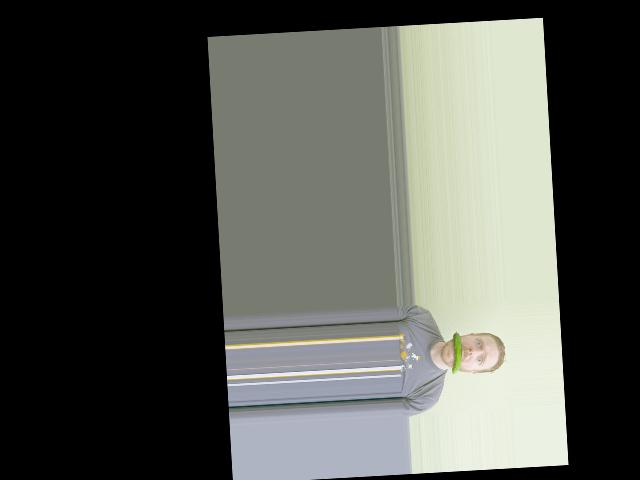cucumber: (449, 331, 462, 374)
